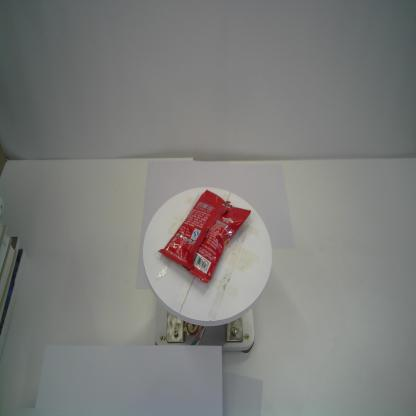Instant Drink: (158, 190, 252, 285)
